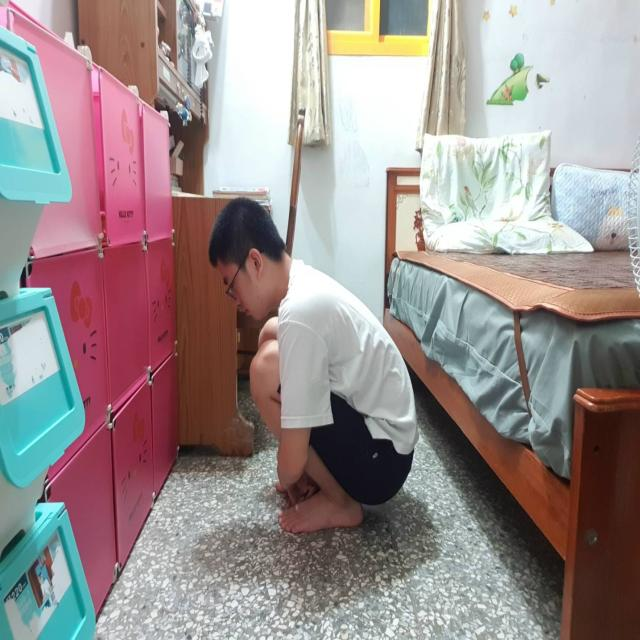sit: (208, 193, 422, 554)
